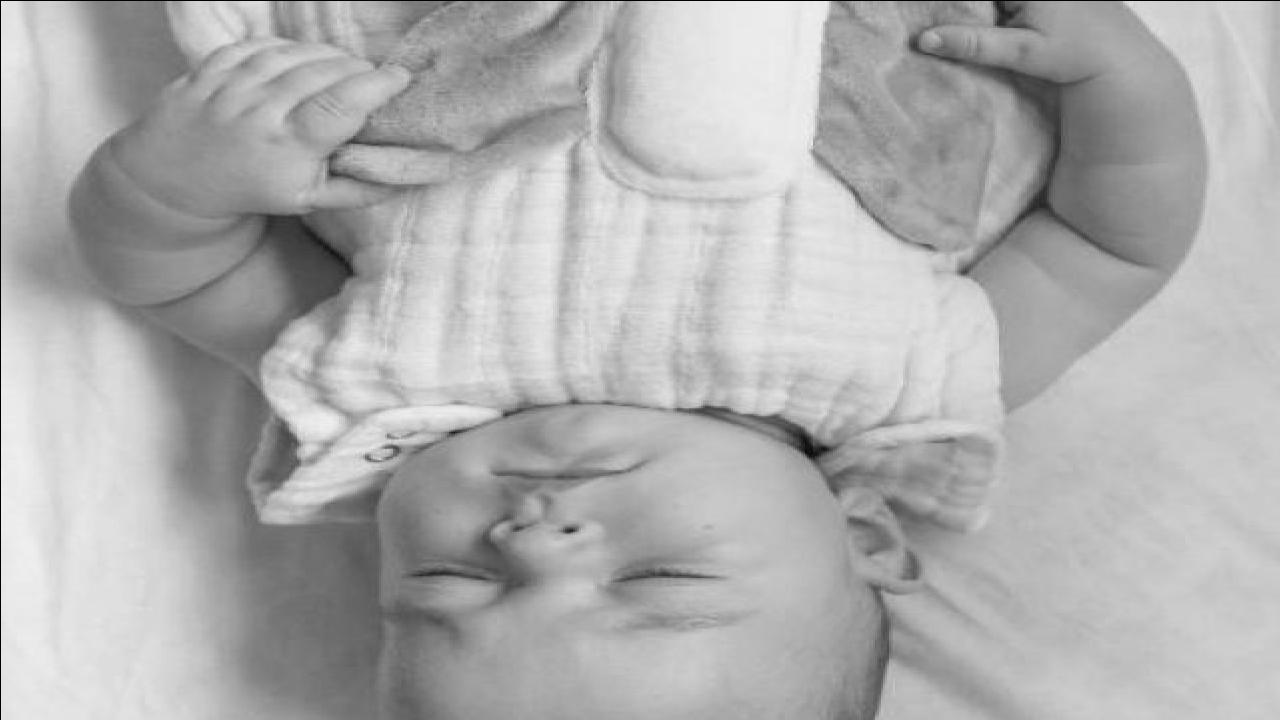hand: (134, 37, 412, 219), (914, 1, 1154, 80)
